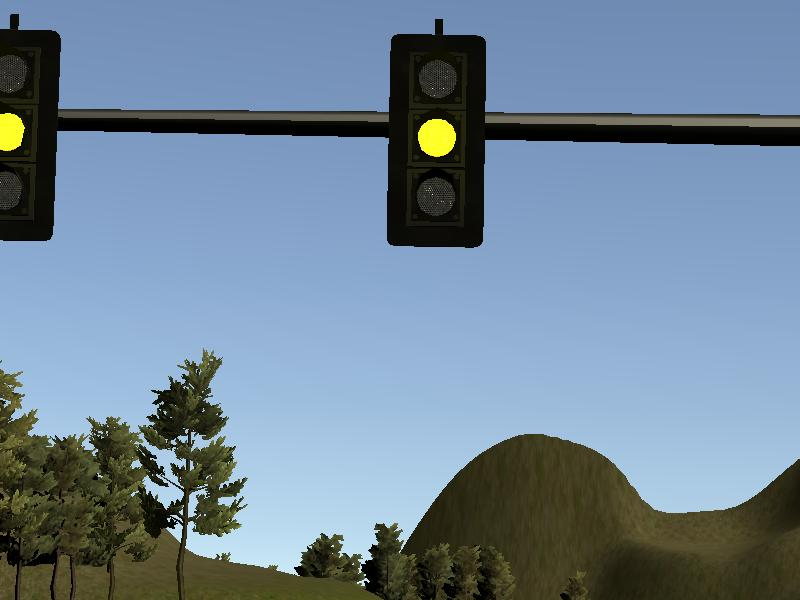yellow: (388, 33, 484, 248)
